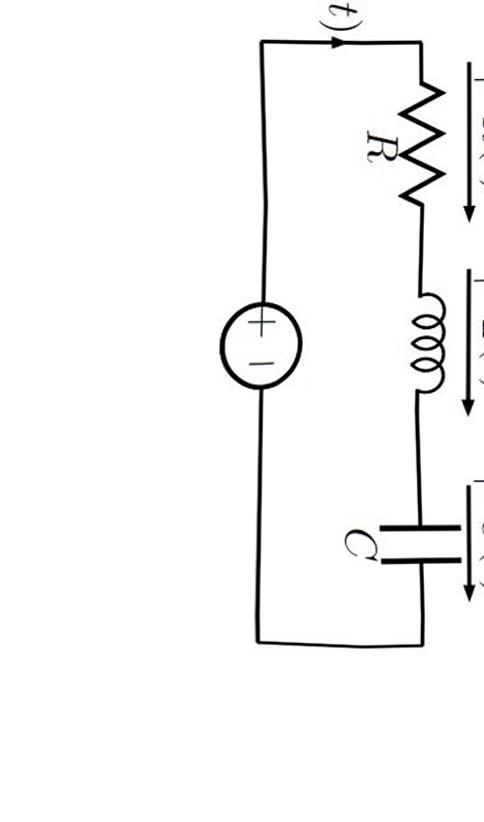Battery: (194, 280, 323, 402)
